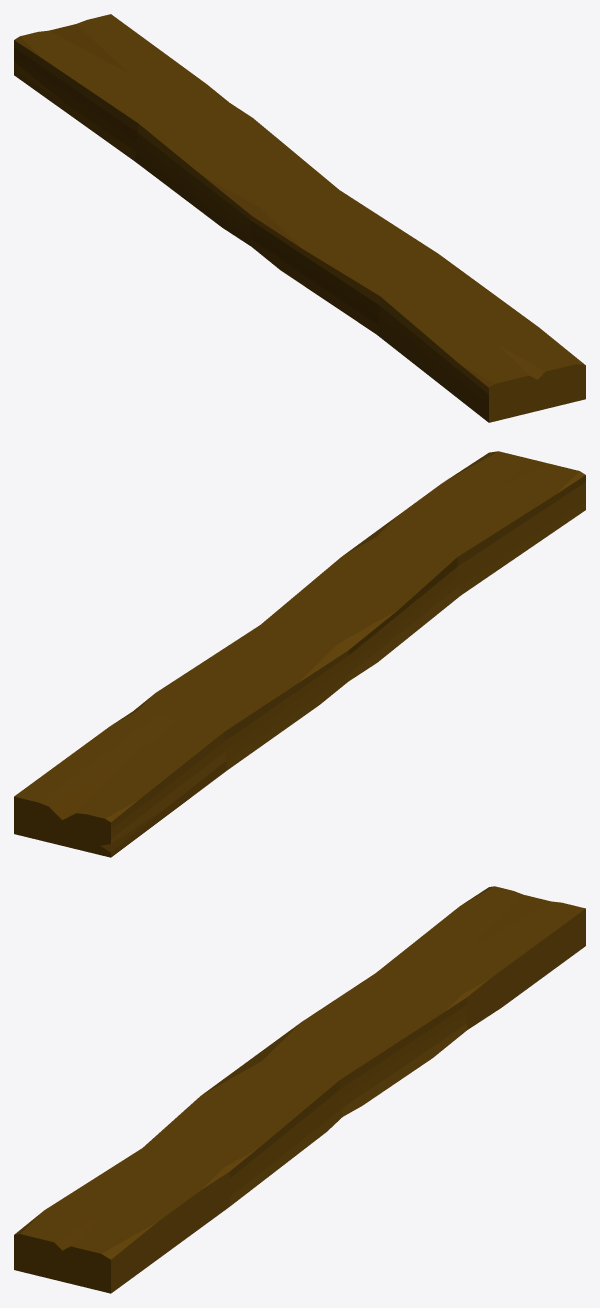
Rendered from plank.fbx.
The picture shows the model from 3 angles, top to bottom: view 1: azimuth 30°, elevation 25°; view 2: azimuth 150°, elevation 25°; view 3: azimuth 330°, elevation 25°; orthographic projection.
Parts seen in each view (by area): view 1: Wooden_Plank; view 2: Wooden_Plank; view 3: Wooden_Plank.
Boxes of the visible parts, <box> form: Wooden_Plank: <box>14,14,585,422</box>; Wooden_Plank: <box>14,451,585,857</box>; Wooden_Plank: <box>14,886,585,1293</box>.
Size of the model in its own units: 29.42 by 10.87 by 249.
